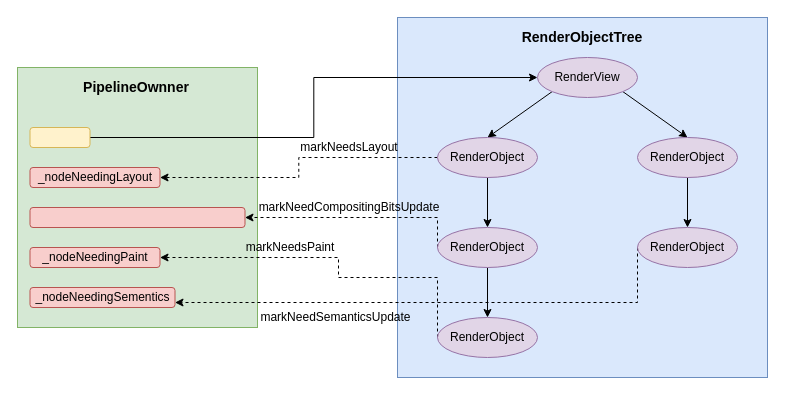
The diagram is 785 pixels wide and 395 high, and some of its shapes have lost their labels. Here are the shapes that lost their labels. From the top down, the centre of each, then its label:
the point at 59,137: rootNode
the point at 137,217: _nodeNeedingCompositingBitsUpdate
